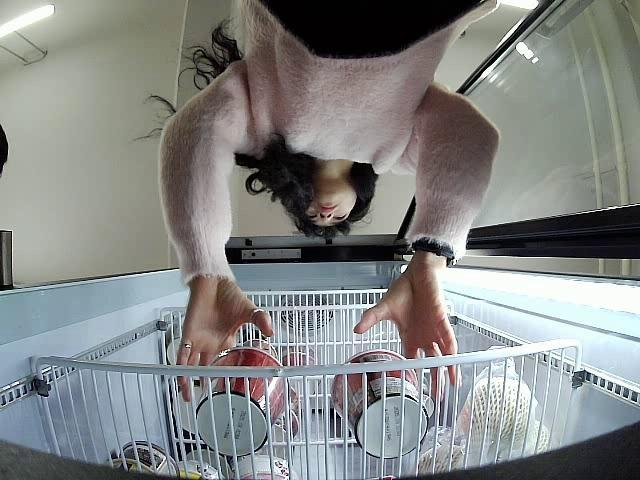02_shinRamen_S: (331, 350, 428, 458), (198, 346, 286, 454)
